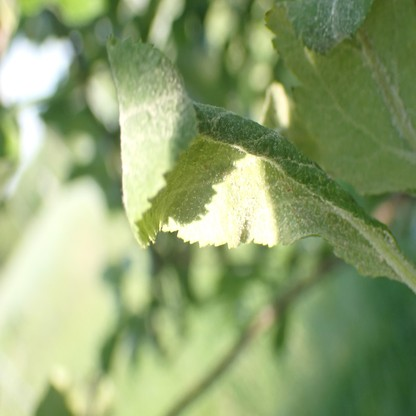powdery_mildew: (106, 37, 402, 277), (284, 0, 375, 52)
